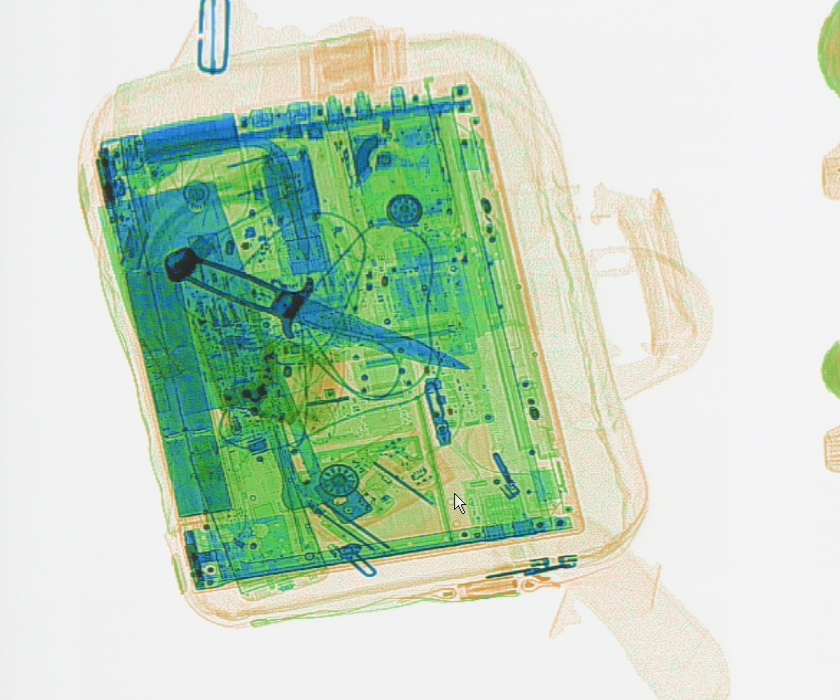knife: (96, 178, 333, 511), (162, 244, 470, 369)
